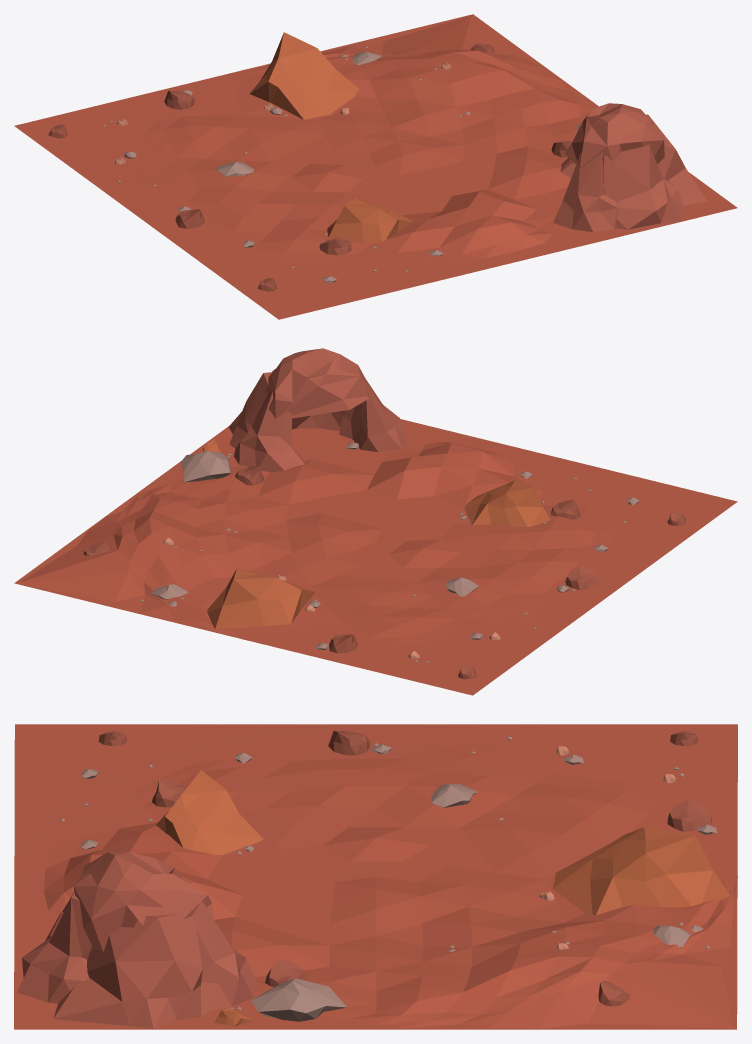
Rendered from Mission To Mars World.dae.
3 views of the same model, one above another, from view 1: azimuth 30°, elevation 25°; view 2: azimuth 150°, elevation 25°; view 3: azimuth 270°, elevation 25° (orthographic). The views are drawn at different scales.
Visible parts, largest first — view 1: World; view 2: World; view 3: World.
Part boxes in pixels (x1,y1,x2,y2): World: (14,14,737,319); World: (14,348,737,695); World: (14,724,737,1029).
Size of the model in its own units: 15 by 15.02 by 2.75.
